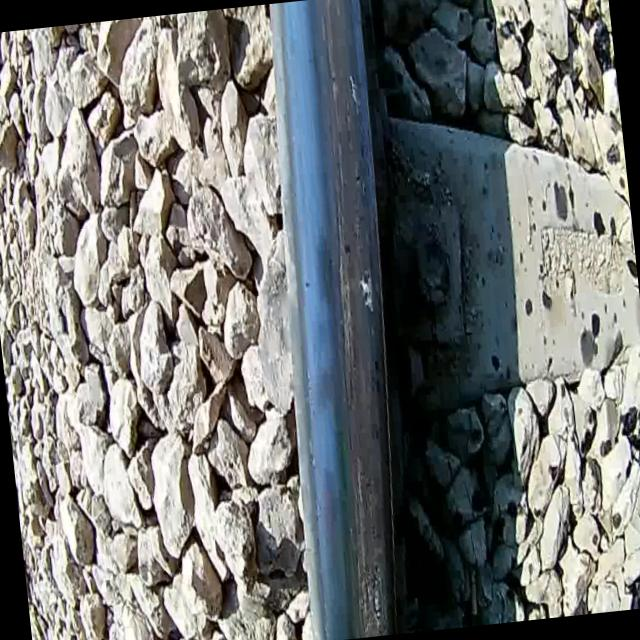Grooves: (287, 0, 410, 638)
